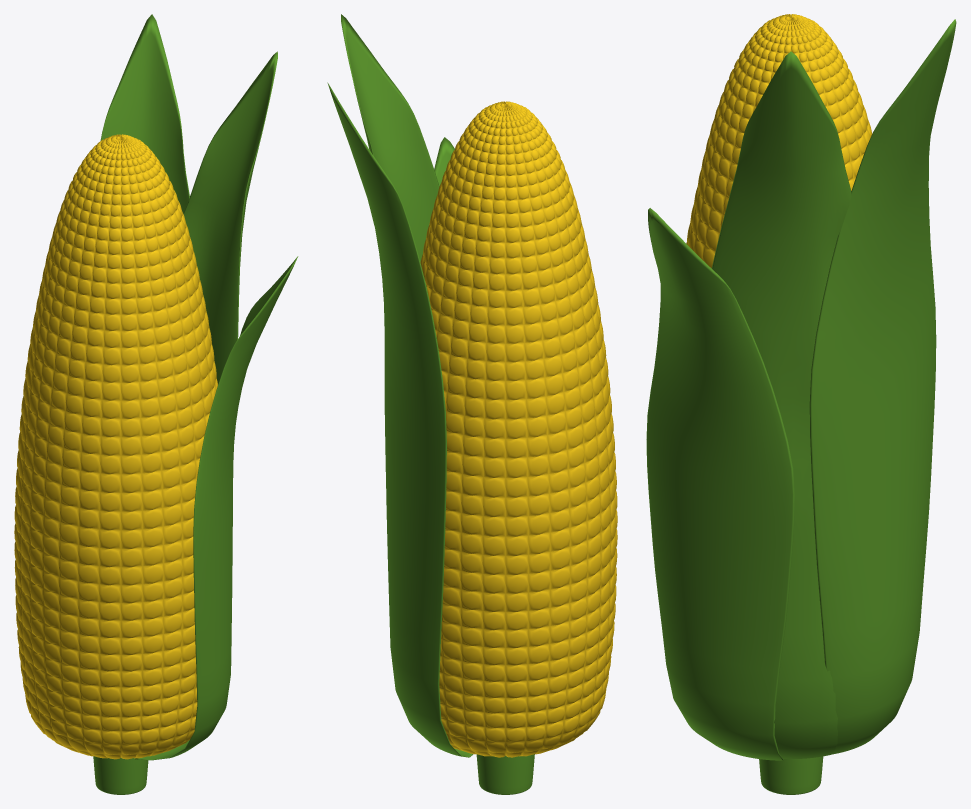
The model's file is Corn.fbx.
The picture shows the model from 3 angles, left to right: view 1: azimuth 30°, elevation 25°; view 2: azimuth 150°, elevation 25°; view 3: azimuth 270°, elevation 25°; orthographic projection. The views are drawn at different scales.
Visible parts, largest first — view 1: pCylinder2; view 2: pCylinder2; view 3: pCylinder2.
Boxes of the visible parts, box(x1,y1,x2,y2) form: pCylinder2: box(14, 14, 298, 794); pCylinder2: box(327, 14, 617, 794); pCylinder2: box(646, 14, 956, 794).
Bounding box in the file's own units: 8.1 × 21.62 × 7.39.
Materials: 1 (1 with a texture image).
